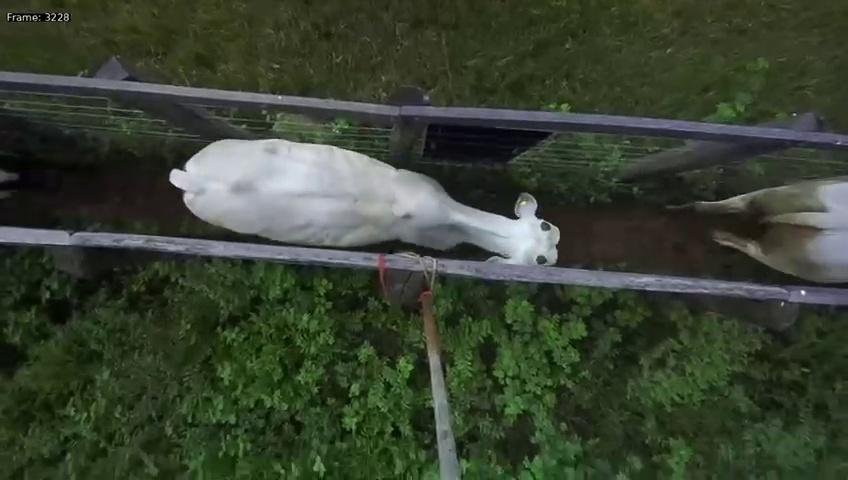cattle: (160, 127, 569, 270)
